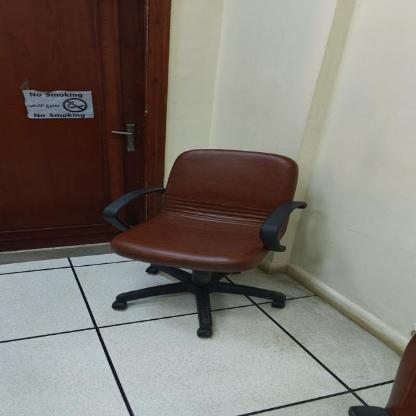chair: (90, 139, 316, 346)
